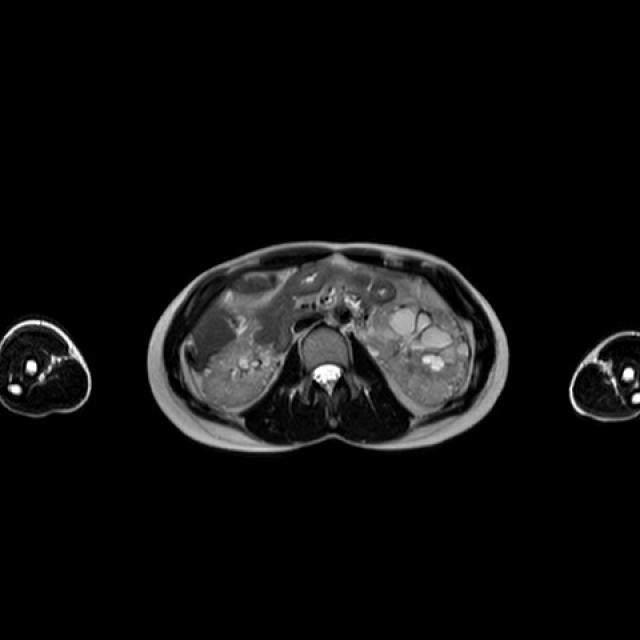sag: (208, 341, 282, 408)
sol: (367, 300, 473, 409)
